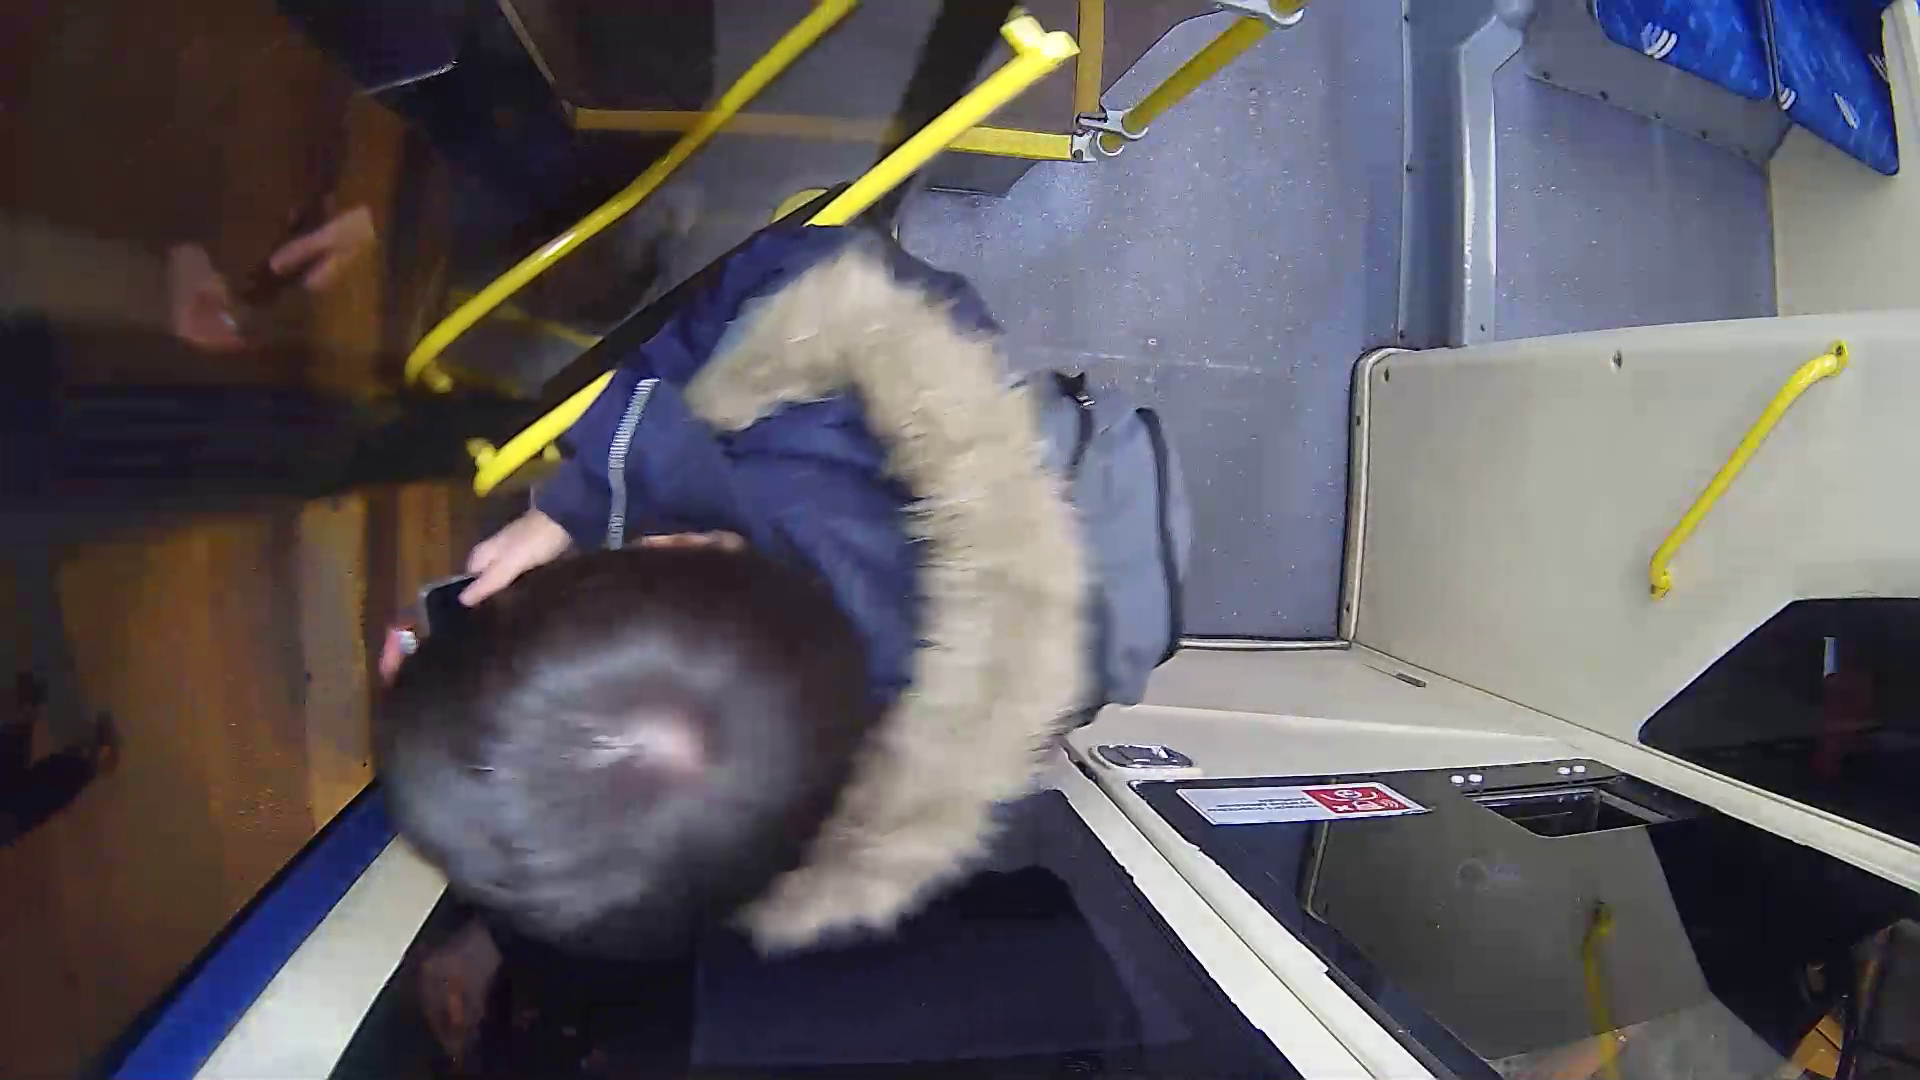person: (325, 226, 1227, 941)
